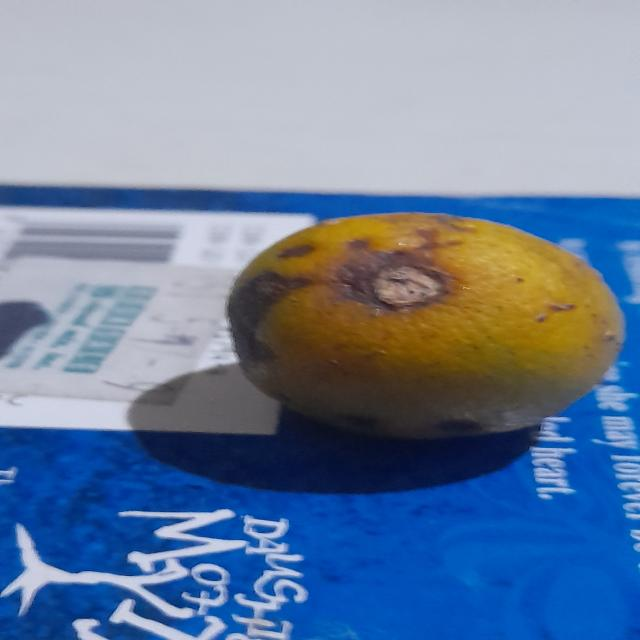black spot: (221, 213, 623, 435)
